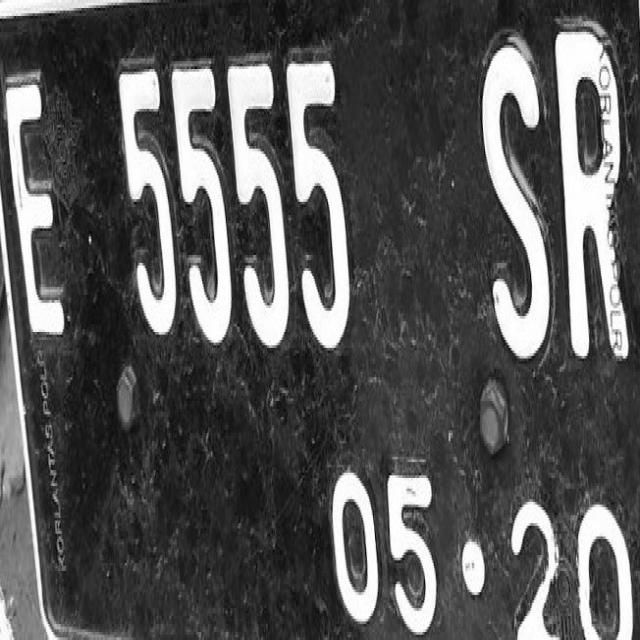license-plat: (3, 0, 640, 629)
